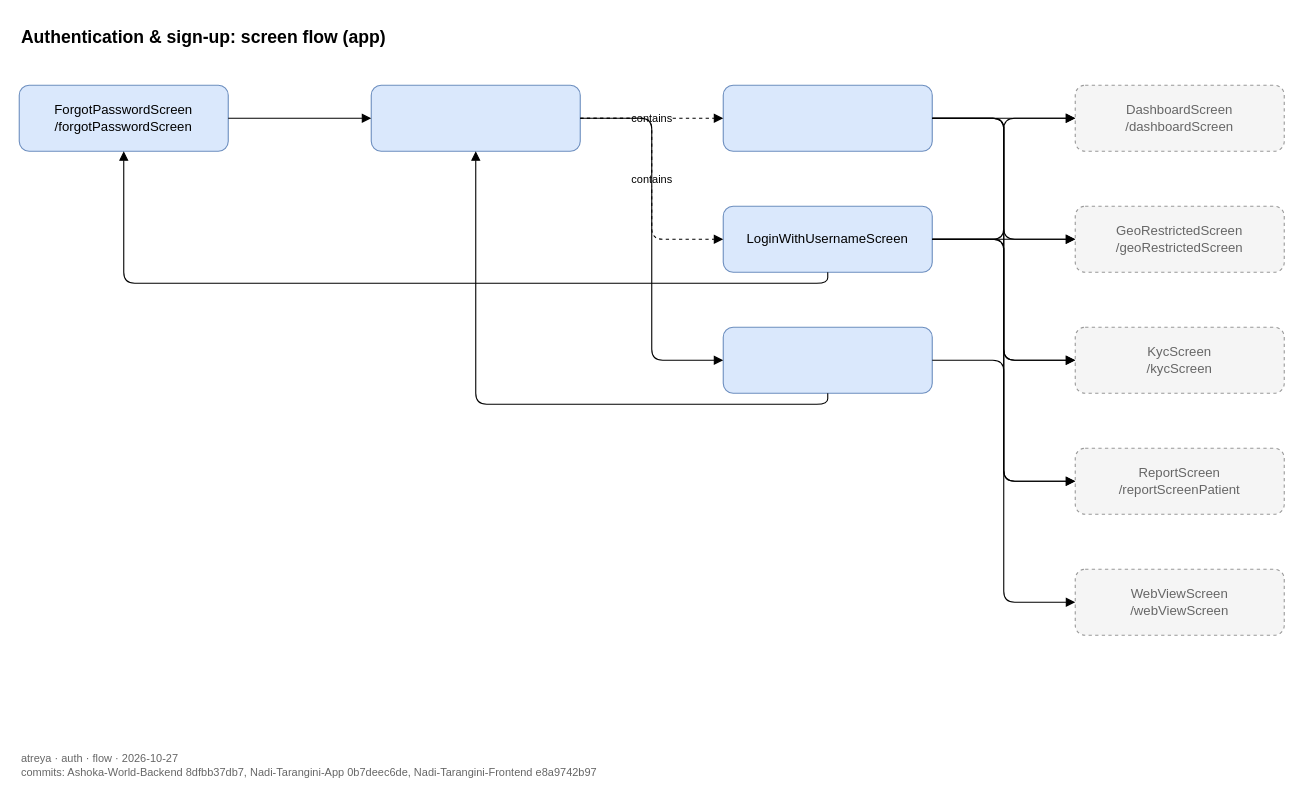
The diagram is 1304 pixels wide and 803 high, and some of its shapes have lost their labels. The shapes that lost their labels are listed below. From the top down, each one's centre as x and y in pixels, then its label:
pixel 475 117: LoginScreen /loginScreen
pixel 827 117: LoginWithOtpScreen
pixel 827 359: SignUpScreen /signupScreen
